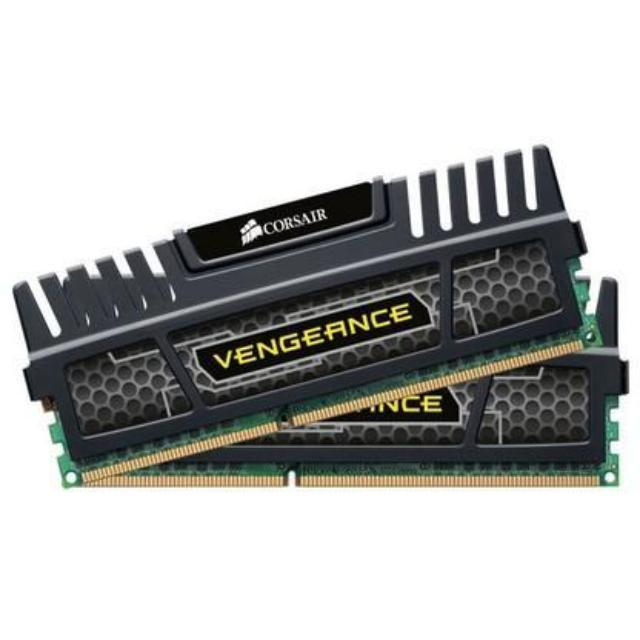RAM: (14, 154, 632, 503)
